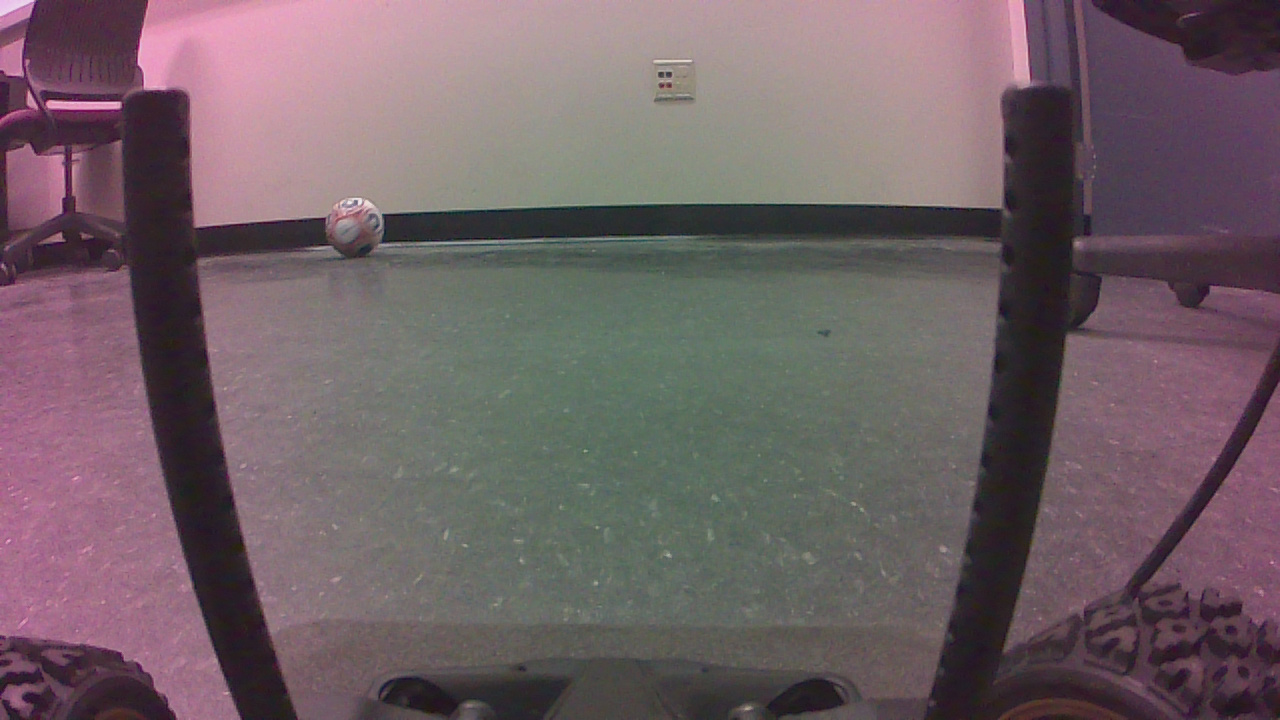ball: (329, 202, 391, 265)
